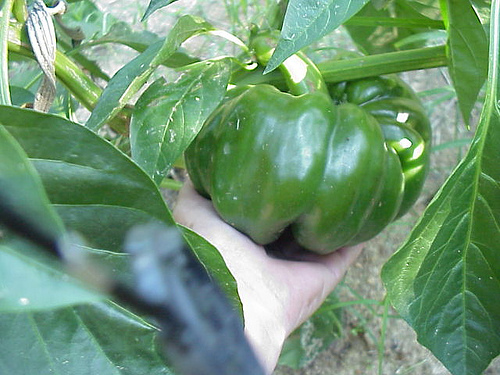capsicum: (183, 47, 433, 255)
